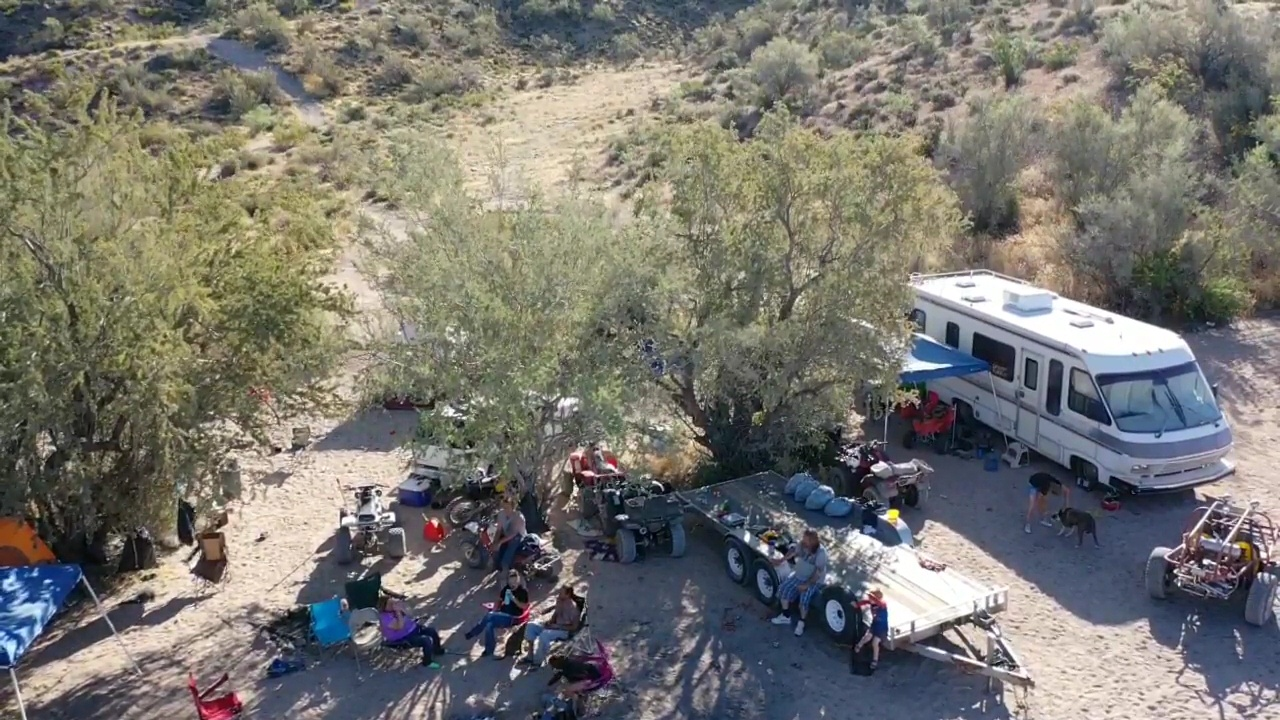insan: (463, 564, 534, 663), (468, 498, 531, 603), (771, 527, 830, 637), (518, 580, 582, 671), (376, 589, 438, 670), (1018, 469, 1073, 538), (848, 585, 889, 672)
otobus: (884, 259, 1237, 487)
